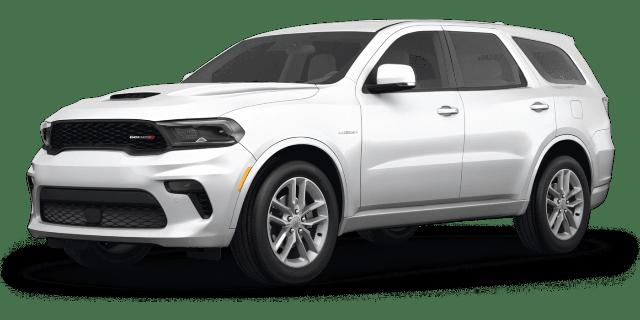dodge: (26, 18, 616, 284)
